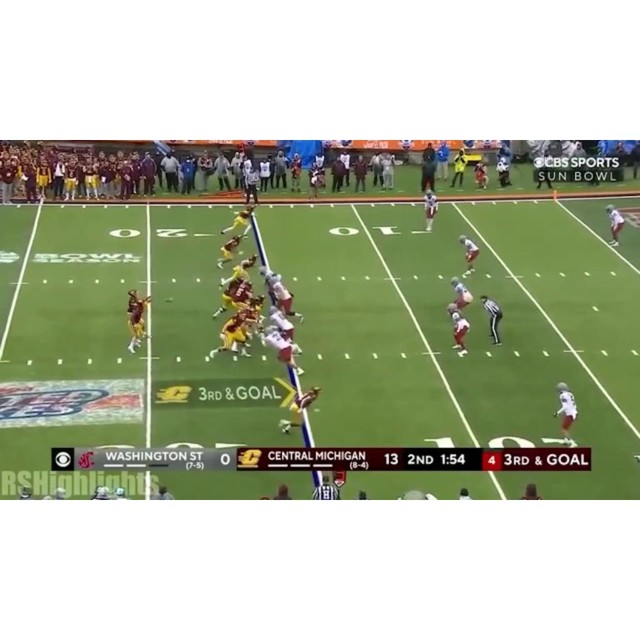american-football-player: (207, 311, 252, 363), (279, 385, 323, 435), (264, 325, 305, 377), (212, 270, 249, 319), (268, 305, 303, 355), (268, 275, 304, 322), (553, 382, 579, 443), (446, 303, 471, 356), (128, 296, 150, 353), (221, 207, 254, 238), (216, 235, 243, 269), (459, 235, 480, 275), (605, 205, 625, 246), (449, 277, 473, 309), (232, 280, 255, 311), (423, 190, 439, 232)
referee: (480, 295, 504, 347)
